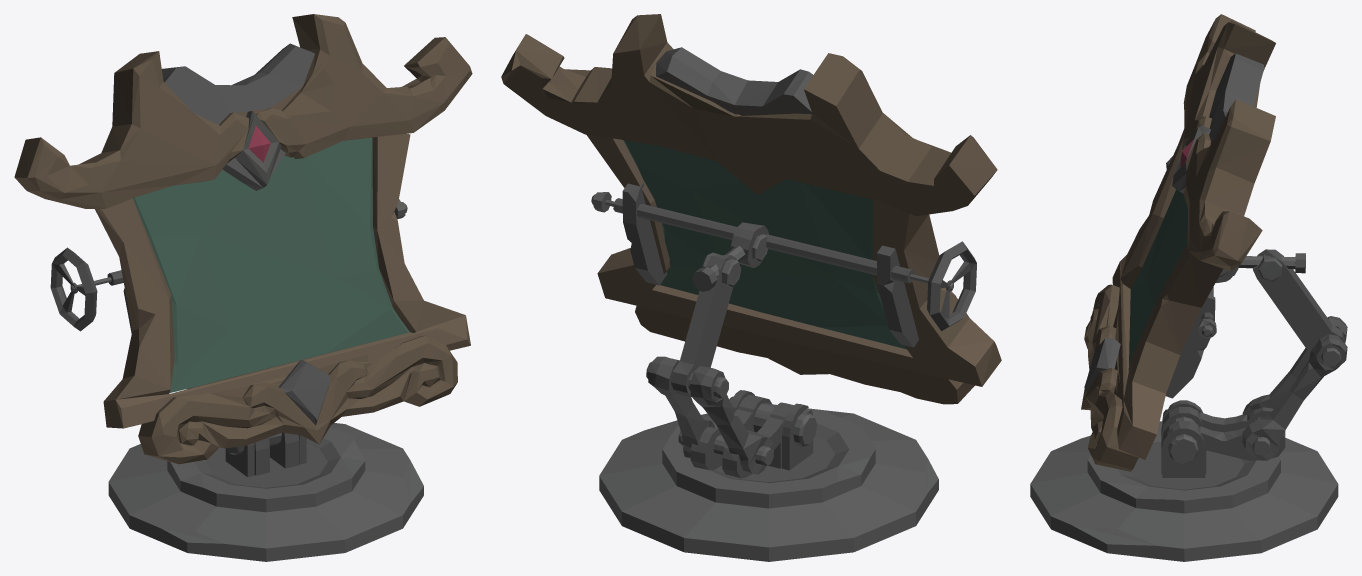
Rendered from Board_Stand_Preset_002.fbx.
3 renders of one model, left to right at view 1: azimuth 30°, elevation 25°; view 2: azimuth 150°, elevation 25°; view 3: azimuth 270°, elevation 25°, orthographic. The views are drawn at different scales.
Parts seen in each view (by area): view 1: Board_Stand_Preset_002.001_001, Board_Stand_Preset_002.001_005; view 2: Board_Stand_Preset_002.001_001, Board_Stand_Preset_002.001_005, Board_Stand_Preset_002.001_003, Board_Stand_Preset_002.001_004, Board_Stand_Preset_002.001_002; view 3: Board_Stand_Preset_002.001_001, Board_Stand_Preset_002.001_005, Board_Stand_Preset_002.001_003, Board_Stand_Preset_002.001_004, Board_Stand_Preset_002.001_002.
Part boxes in pixels (box(x1,y1,x2,y2)): Board_Stand_Preset_002.001_001: box(14, 14, 472, 464); Board_Stand_Preset_002.001_005: box(108, 423, 423, 561); Board_Stand_Preset_002.001_001: box(501, 14, 1001, 404); Board_Stand_Preset_002.001_005: box(599, 390, 938, 561); Board_Stand_Preset_002.001_003: box(647, 356, 773, 474); Board_Stand_Preset_002.001_004: box(646, 255, 736, 398); Board_Stand_Preset_002.001_002: box(692, 222, 768, 291); Board_Stand_Preset_002.001_001: box(1081, 14, 1275, 471); Board_Stand_Preset_002.001_005: box(1030, 400, 1338, 561); Board_Stand_Preset_002.001_003: box(1242, 316, 1347, 460); Board_Stand_Preset_002.001_004: box(1253, 249, 1345, 366); Board_Stand_Preset_002.001_002: box(1216, 253, 1305, 282).
Size of the model in its own units: 1.01 by 0.9592 by 0.6352.
